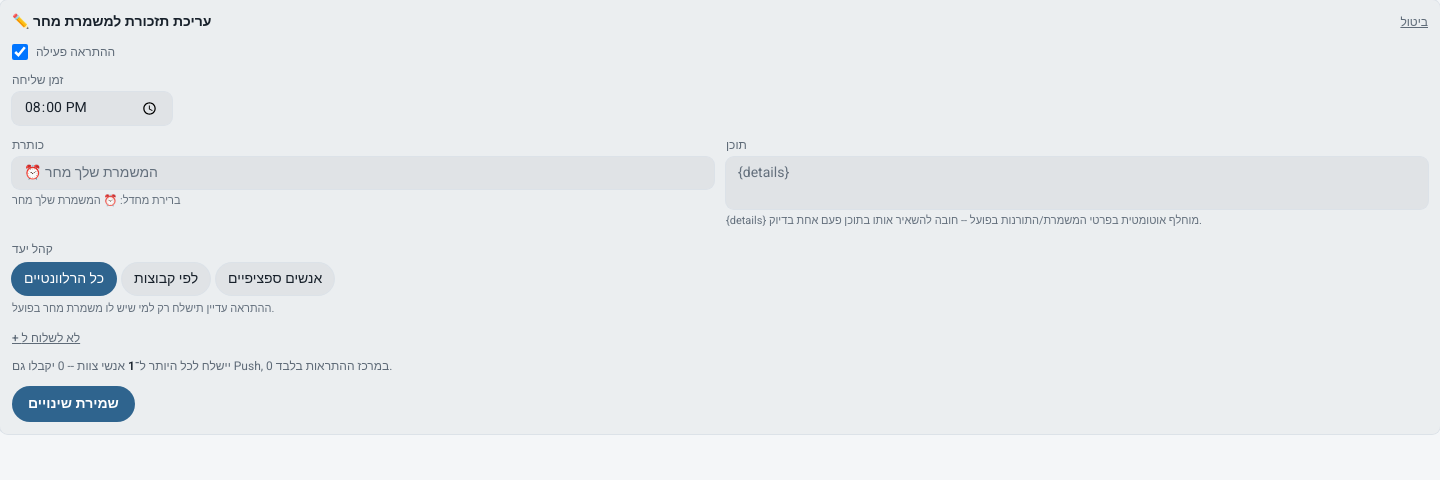
Test: ManagerSystemRuleEditor -- fields + submission › a 'conflict' error shows the truthful stale-edit message, distinct from other errors
Click the button "שמירת שינויים" at (73, 404), box [12,386,135,422]
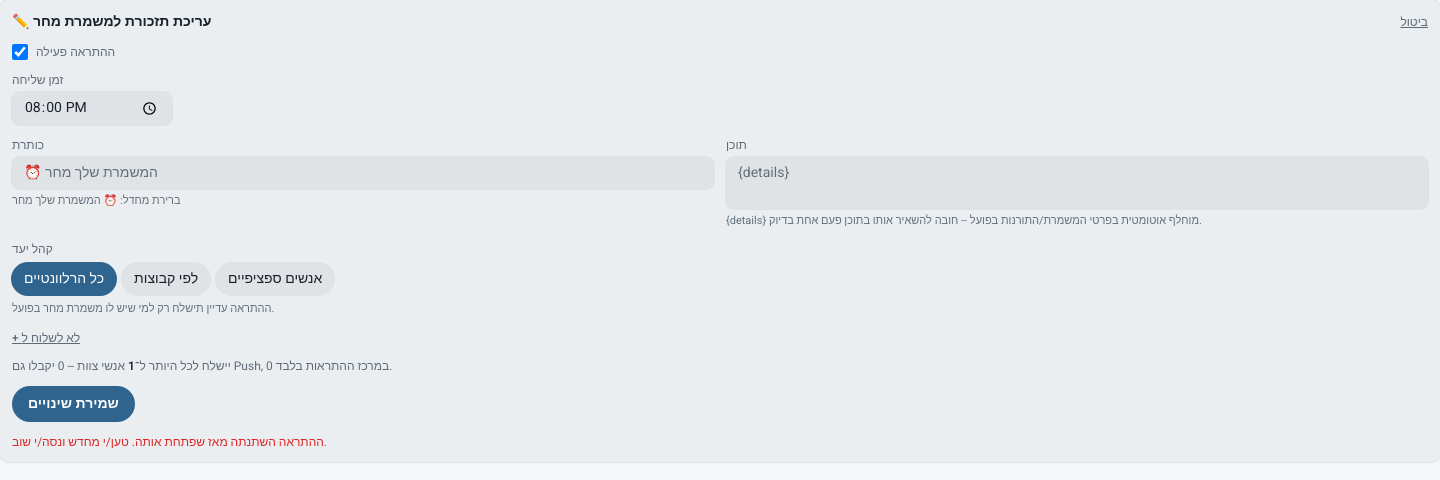
expect the text "ההתראה השתנתה מאז שפתחת אותה. טען/י מחדש ונסה/י שוב." is shown: met, box [12,433,327,451]
